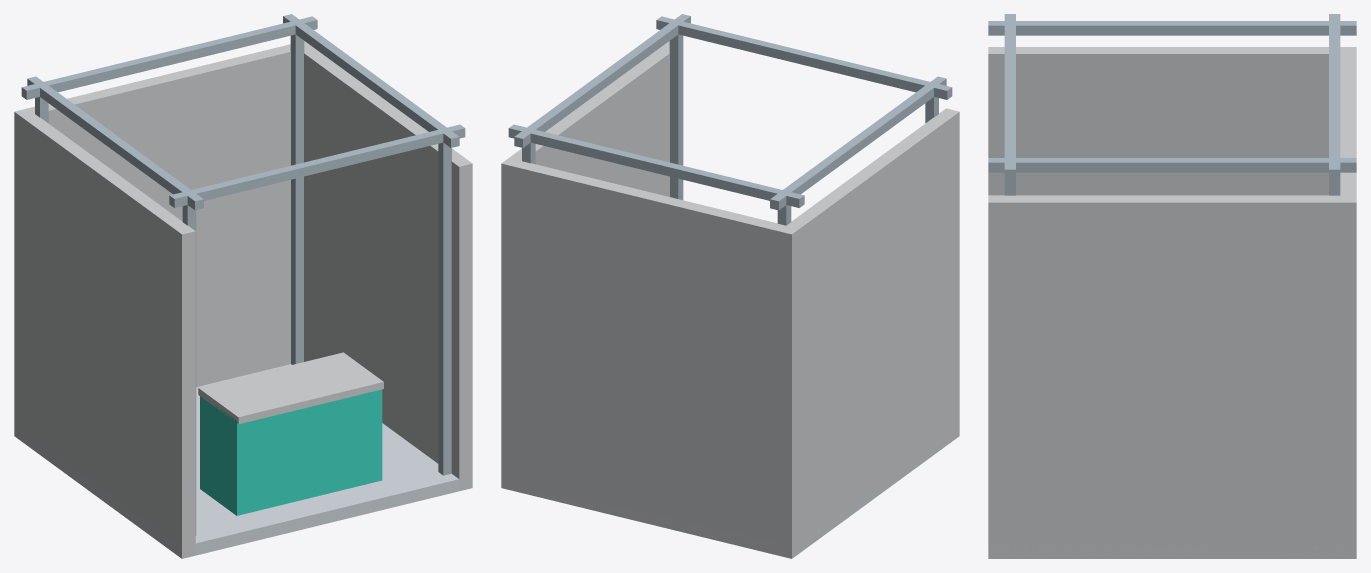
The picture shows the model from 3 angles, left to right: view 1: azimuth 30°, elevation 25°; view 2: azimuth 150°, elevation 25°; view 3: azimuth 270°, elevation 25°; orthographic projection. The views are drawn at different scales.
Visible parts, largest first — view 1: Exhibition Booth Concept; view 2: Exhibition Booth Concept; view 3: Exhibition Booth Concept.
Boxes of the visible parts, x1=… form: Exhibition Booth Concept: x1=14, y1=14, x2=472, y2=558; Exhibition Booth Concept: x1=501, y1=14, x2=959, y2=558; Exhibition Booth Concept: x1=988, y1=14, x2=1356, y2=558.
Bounding box in the file's own units: 3 × 3.49 × 3.
